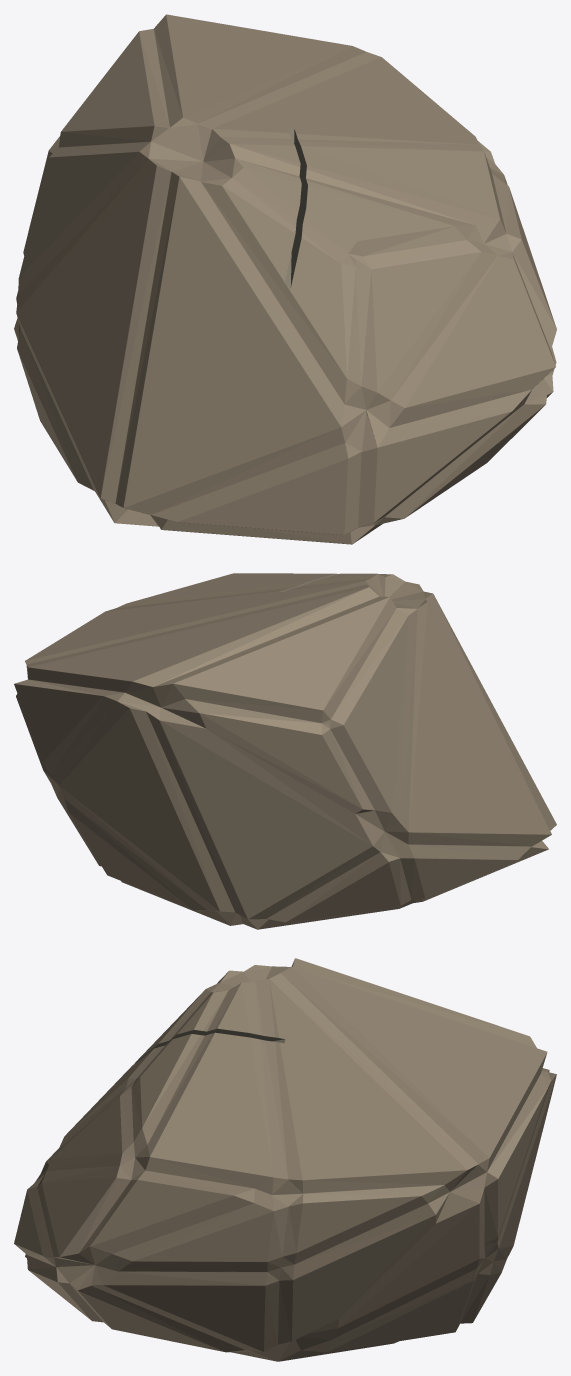
Rendered from V7_Granit_3.fbx.
3 views of the same model, one above another, from view 1: azimuth 30°, elevation 25°; view 2: azimuth 150°, elevation 25°; view 3: azimuth 270°, elevation 25° (orthographic). The views are drawn at different scales.
Visible parts, largest first — view 1: V7_Granit_3; view 2: V7_Granit_3; view 3: V7_Granit_3.
Boxes of the visible parts, x1,y1,x2,y2 form: V7_Granit_3: [14, 14, 556, 544]; V7_Granit_3: [14, 573, 556, 929]; V7_Granit_3: [14, 958, 556, 1361].
Bounding box in the file's own units: 235 × 154 × 268.
